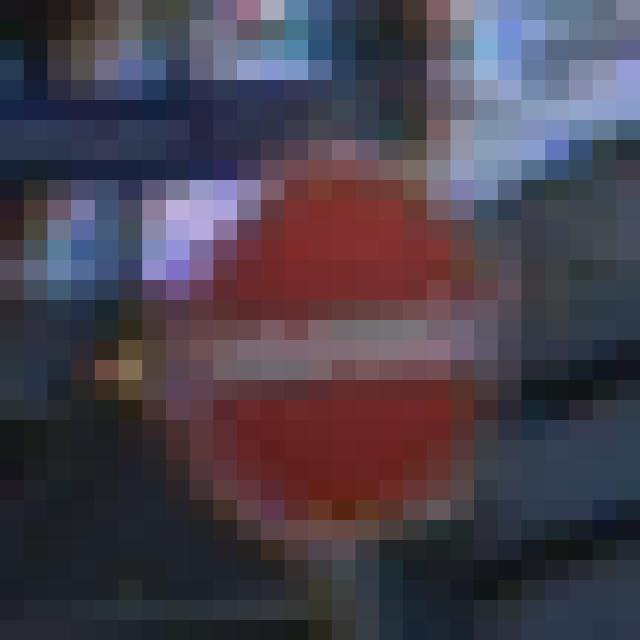No Entry: (143, 121, 523, 541)
